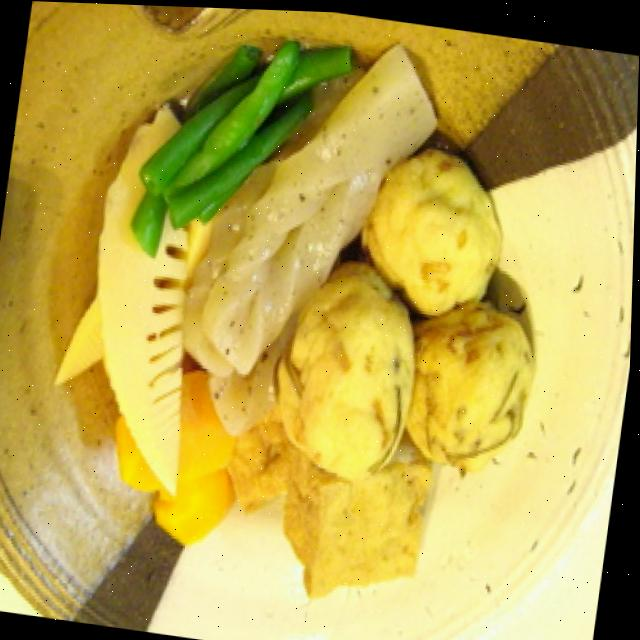熟制海鲜: (78, 45, 607, 622)
